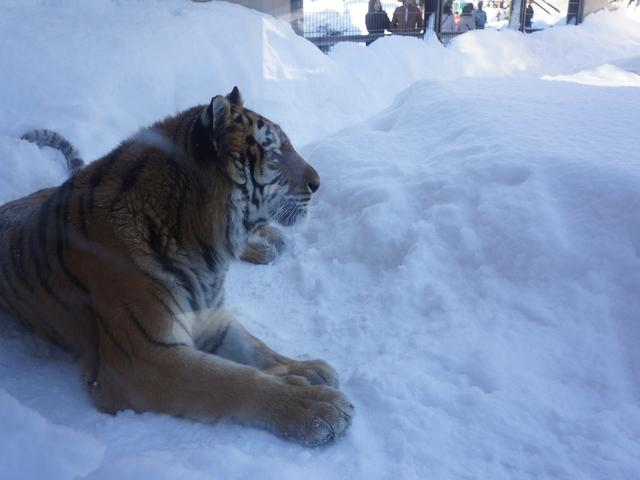tiger: (17, 37, 386, 470)
